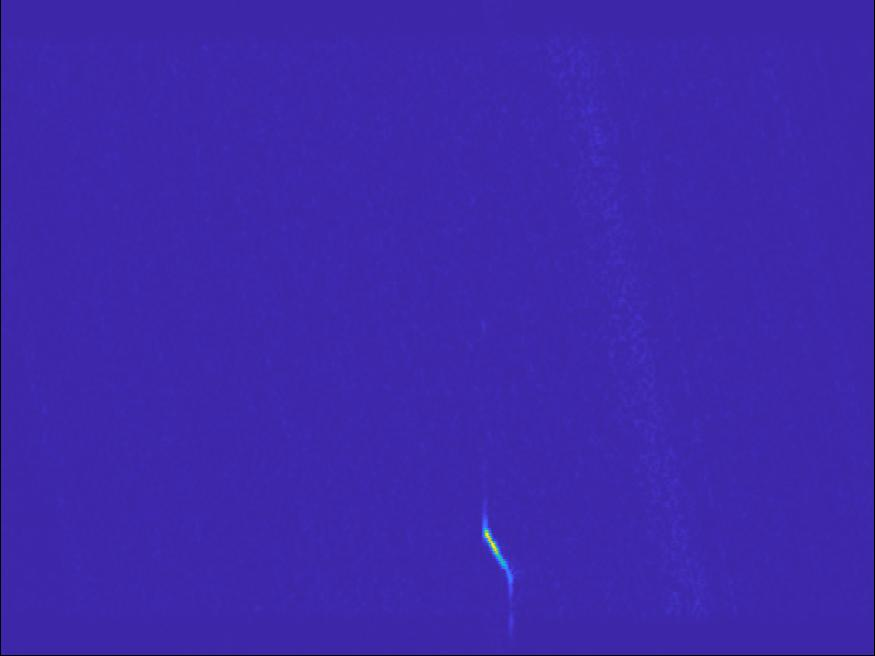Interference: (1, 304, 143, 348), (1, 473, 109, 513)
